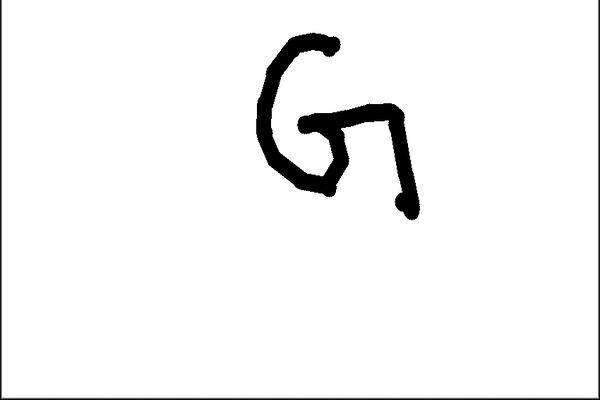G: (251, 28, 426, 225)
